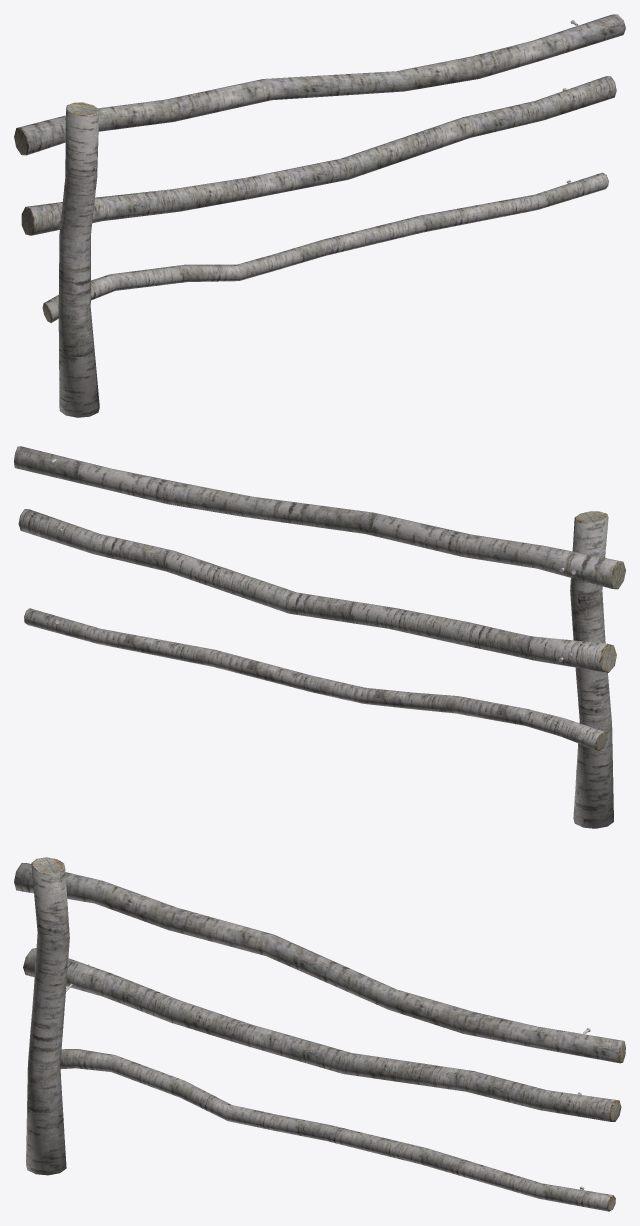
The model's file is Birch_tree_fence_B.fbx.
3 renders of one model, top to bottom at view 1: azimuth 30°, elevation 25°; view 2: azimuth 150°, elevation 25°; view 3: azimuth 330°, elevation 25°, orthographic.
Parts seen in each view (by area): view 1: Birch_tree_fence_B; view 2: Birch_tree_fence_B; view 3: Birch_tree_fence_B.
Boxes of the visible parts, bbox=[...] form: Birch_tree_fence_B: bbox=[14, 14, 625, 417]; Birch_tree_fence_B: bbox=[14, 446, 625, 828]; Birch_tree_fence_B: bbox=[14, 857, 625, 1211].
Size of what is drawn, in the model's own units: 2.35 by 1.13 by 0.2607.
